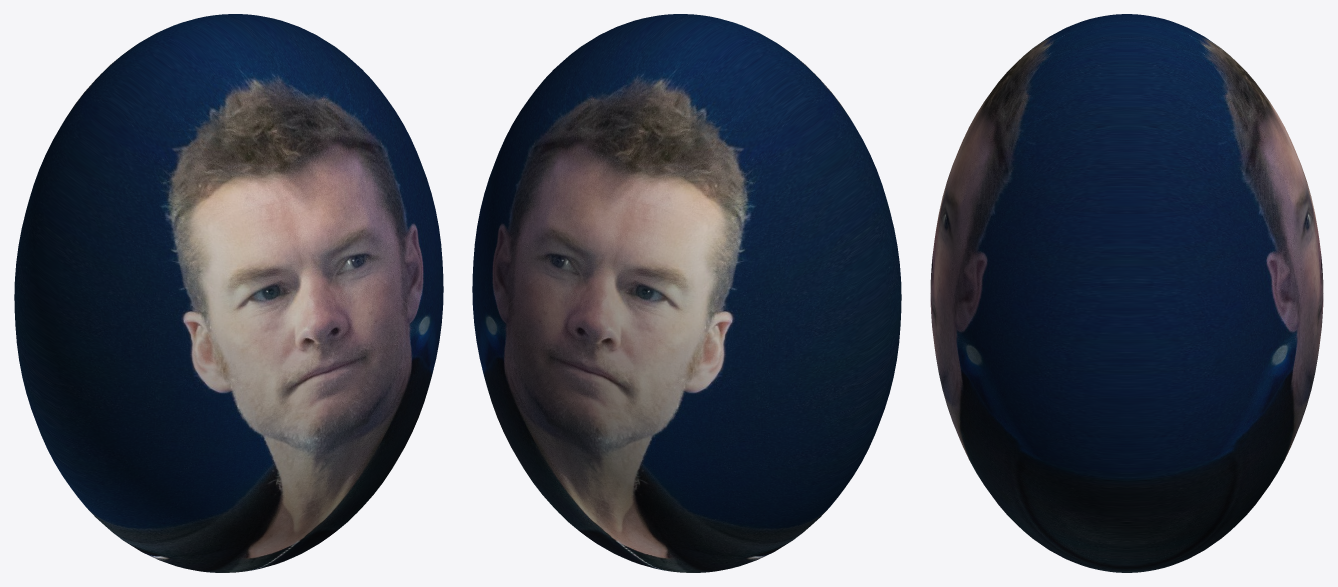
3 views of the same model, side by side, from view 1: azimuth 30°, elevation 25°; view 2: azimuth 150°, elevation 25°; view 3: azimuth 270°, elevation 25° (orthographic).
Visible parts, largest first — view 1: head; view 2: head; view 3: head.
Part boxes in pixels (box(x1,y1,x2,y2)): head: box(14, 14, 443, 572); head: box(472, 14, 901, 572); head: box(930, 14, 1323, 572).
Size of the model in its own units: 1.5 by 2 by 1.35.
1 material, 1 textured.
